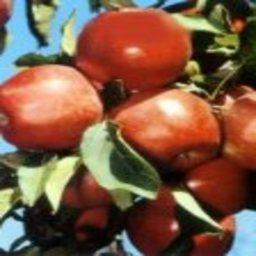apple: (73, 10, 193, 93), (1, 65, 104, 156), (109, 87, 220, 170)
